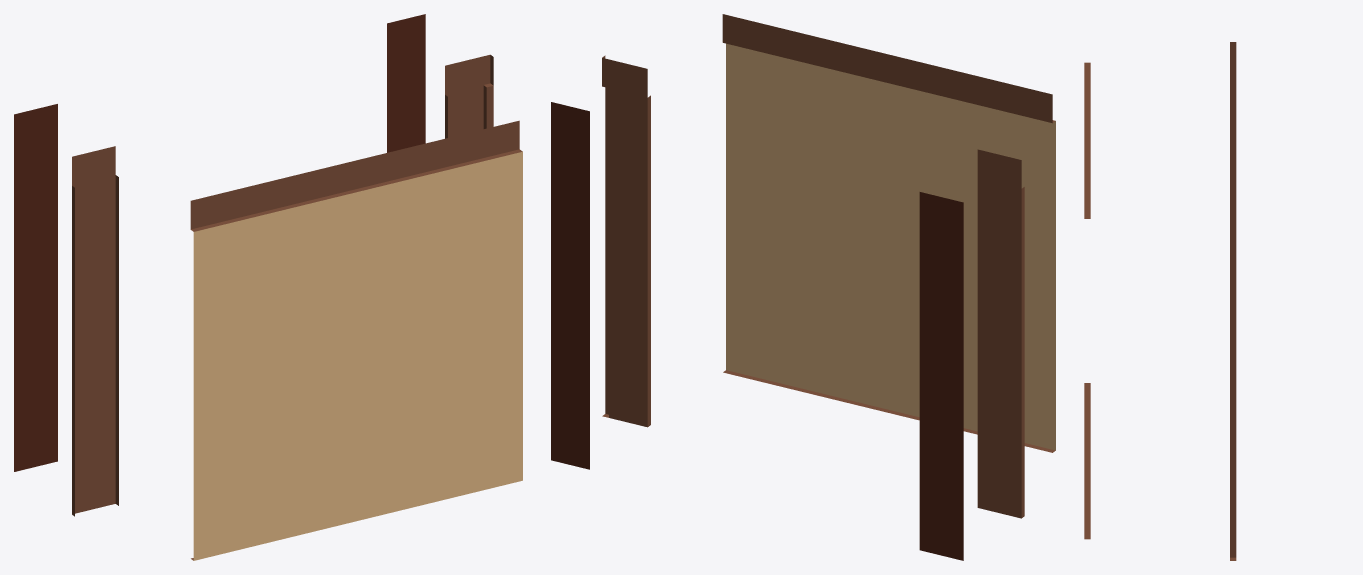
The model's file is candy_building_middle.fbx.
The picture shows the model from 3 angles, left to right: view 1: azimuth 30°, elevation 25°; view 2: azimuth 150°, elevation 25°; view 3: azimuth 270°, elevation 25°; orthographic projection. The views are drawn at different scales.
Parts seen in each view (by area): view 1: candy_building_middle; view 2: candy_building_middle; view 3: candy_building_middle.
Part boxes in pixels (x1=…): candy_building_middle: x1=14, y1=14, x2=522, y2=560; candy_building_middle: x1=551, y1=14, x2=1055, y2=560; candy_building_middle: x1=1084, y1=42, x2=1236, y2=560.
Size of the model in its own units: 610 by 498 by 343.
